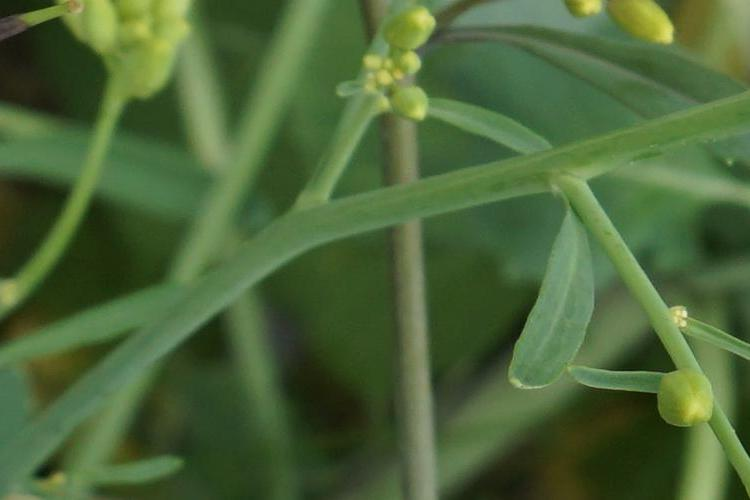bud: (651, 366, 712, 429), (608, 2, 681, 37), (379, 11, 437, 46), (395, 83, 435, 123), (355, 50, 383, 73), (400, 50, 424, 71), (373, 68, 393, 91), (381, 55, 397, 68)
pod: (7, 5, 88, 46)
